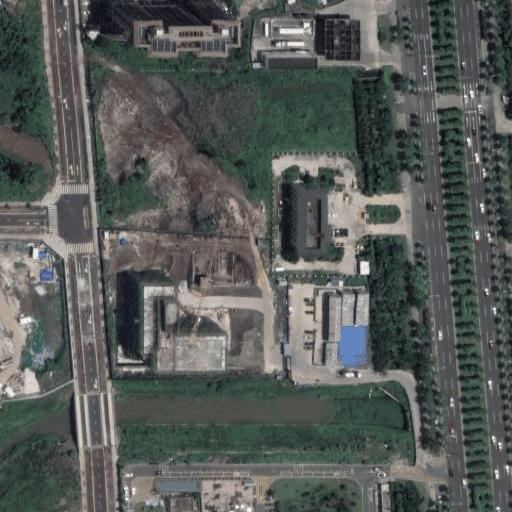building: (124, 269, 211, 360), (288, 182, 318, 249), (319, 17, 354, 58), (261, 15, 312, 43), (339, 325, 367, 366), (262, 52, 311, 66), (328, 296, 341, 343), (155, 480, 202, 492), (340, 292, 356, 325), (356, 294, 370, 325), (171, 497, 193, 511), (381, 484, 390, 512), (324, 343, 333, 364), (360, 261, 368, 277), (283, 342, 292, 356), (243, 480, 256, 486)
